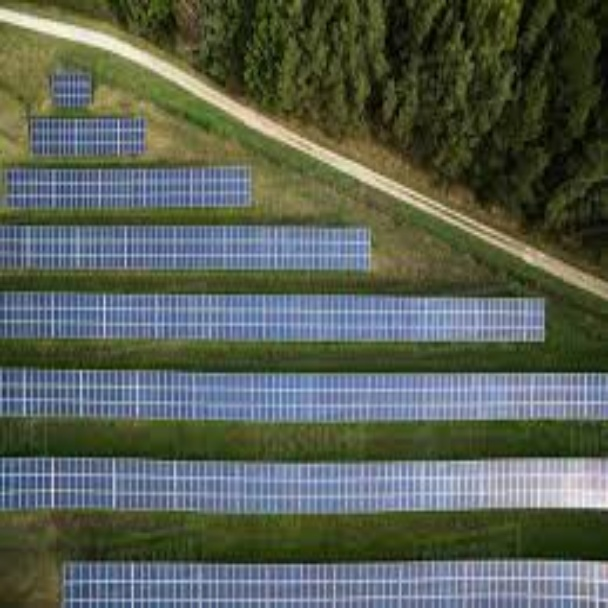solarpanels: (1, 368, 608, 420), (1, 458, 608, 510), (1, 291, 548, 342), (62, 560, 608, 607), (1, 225, 367, 270), (1, 168, 251, 210), (26, 118, 145, 153), (46, 72, 97, 102)
